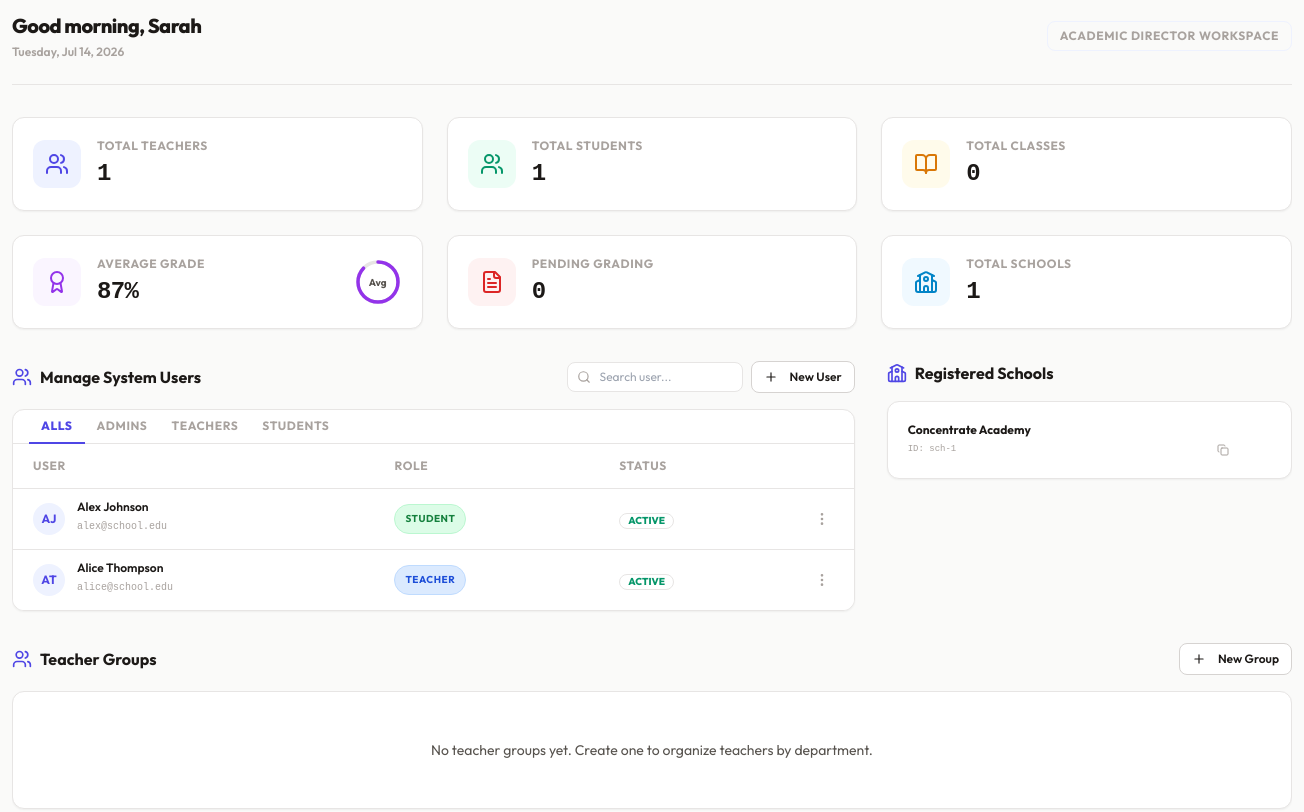
AdminDashboard › shows an error toast when updating a user suspension fails
The width and height of the screenshot is (1304, 812).
Expected: the text "Alex Johnson" is shown, [77, 499, 148, 514]
Click the button without text in the row of "AJ" at {"x": 822, "y": 518}, box [810, 506, 834, 530]
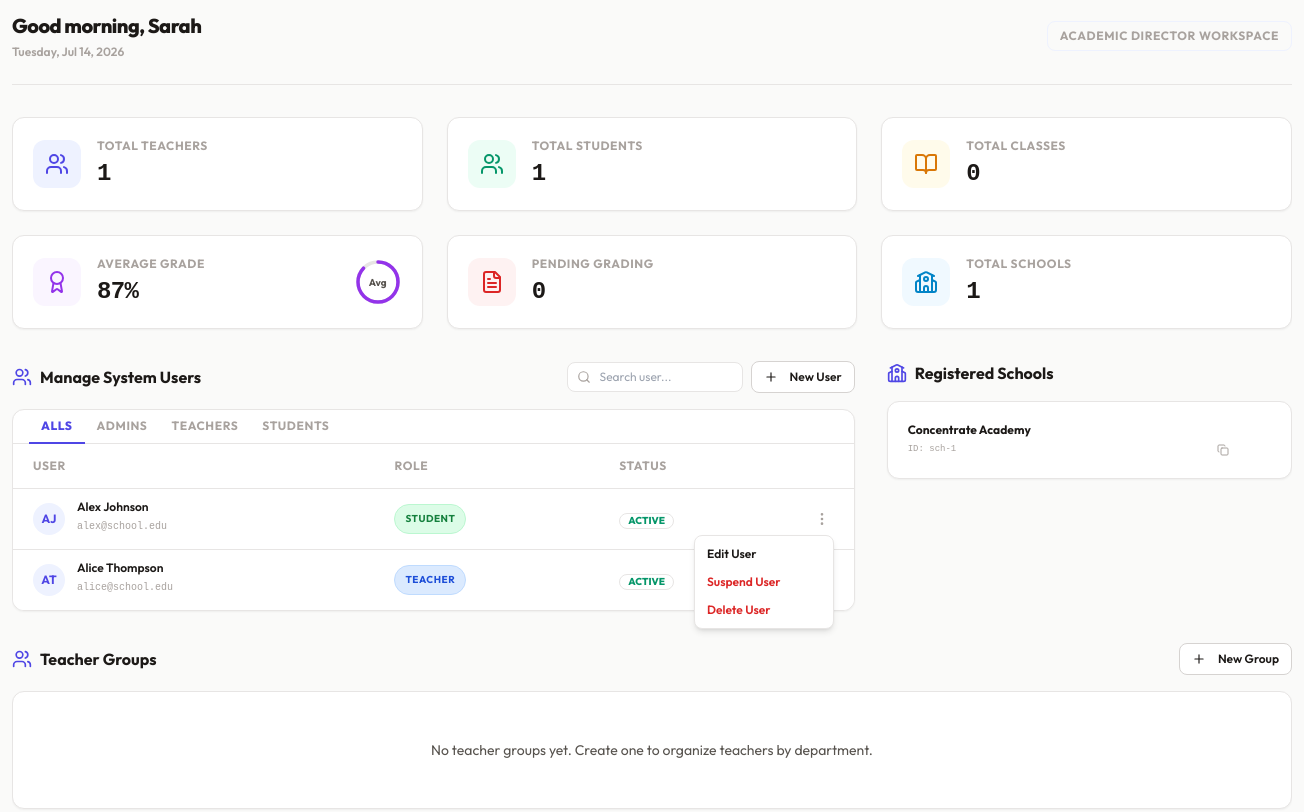
Click the menu item "Suspend User" at {"x": 744, "y": 582}, box [707, 574, 781, 589]
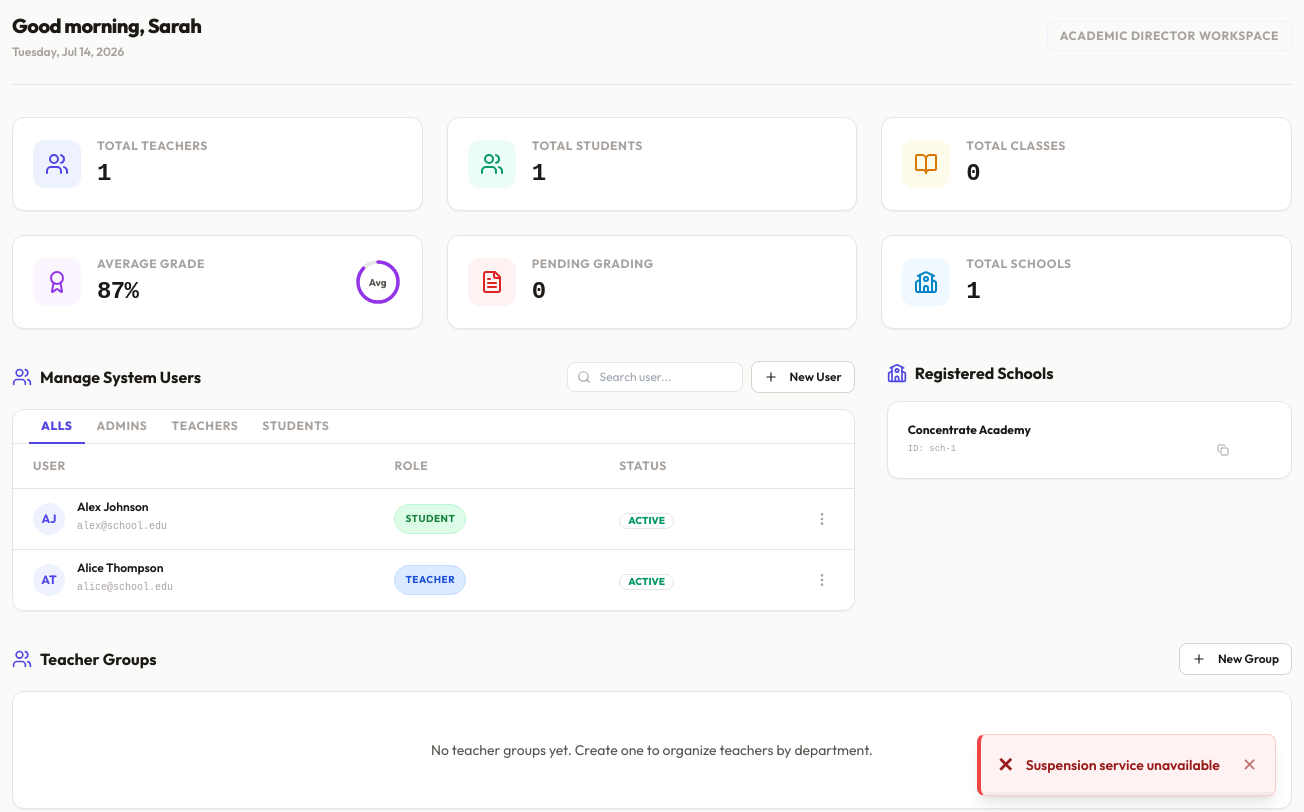
Expected: the text "Active" in the row of "AJ" is shown, [628, 514, 665, 527]
Expected: the text "Suspension service unavailable" is shown, [1026, 755, 1228, 775]
